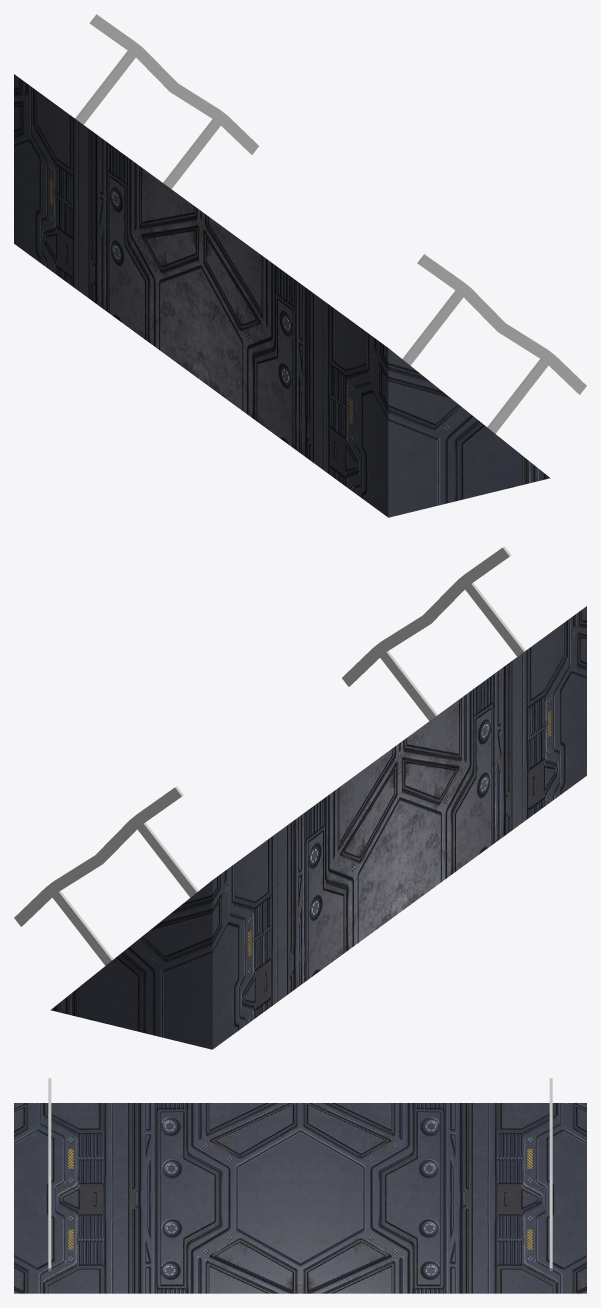
Rendered from Blocchi_gioco (1).fbx.
3 renders of one model, top to bottom at view 1: azimuth 30°, elevation 25°; view 2: azimuth 150°, elevation 25°; view 3: azimuth 270°, elevation 25°, orthographic. The views are drawn at different scales.
Parts seen in each view (by area): view 1: Rampa.002; view 2: Rampa.002; view 3: Rampa.002.
Part boxes in pixels (x1=…): Rampa.002: x1=14, y1=14, x2=586, y2=517; Rampa.002: x1=14, y1=546, x2=586, y2=1049; Rampa.002: x1=14, y1=1078, x2=586, y2=1293.
Bounding box in the file's own units: 273 × 273 × 800.
